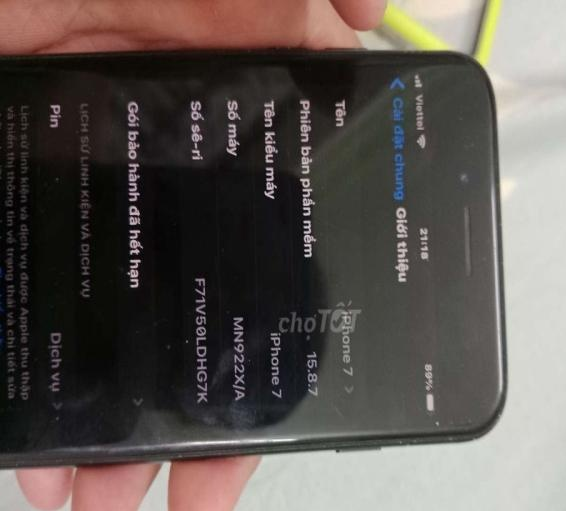scratch: (94, 437, 321, 456), (451, 98, 482, 148), (428, 413, 474, 433)
